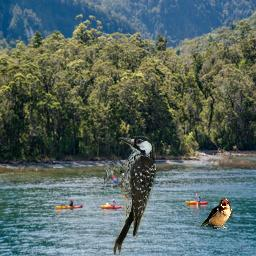Swallow: (200, 198, 233, 229)
Woodpecker: (104, 136, 156, 255)
